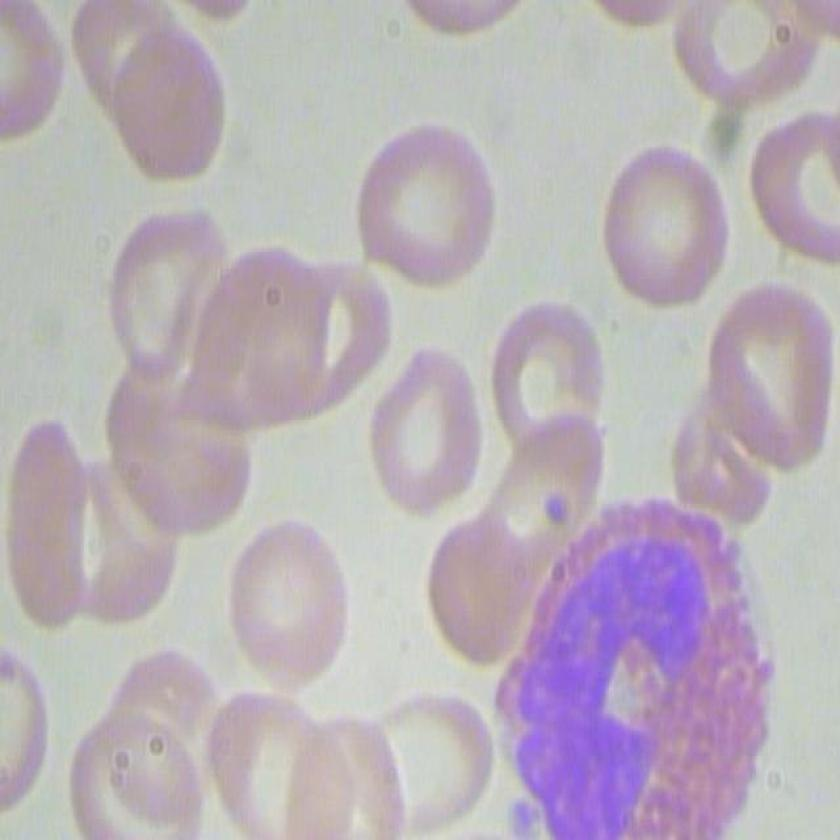eosinophil: (487, 500, 783, 840)
